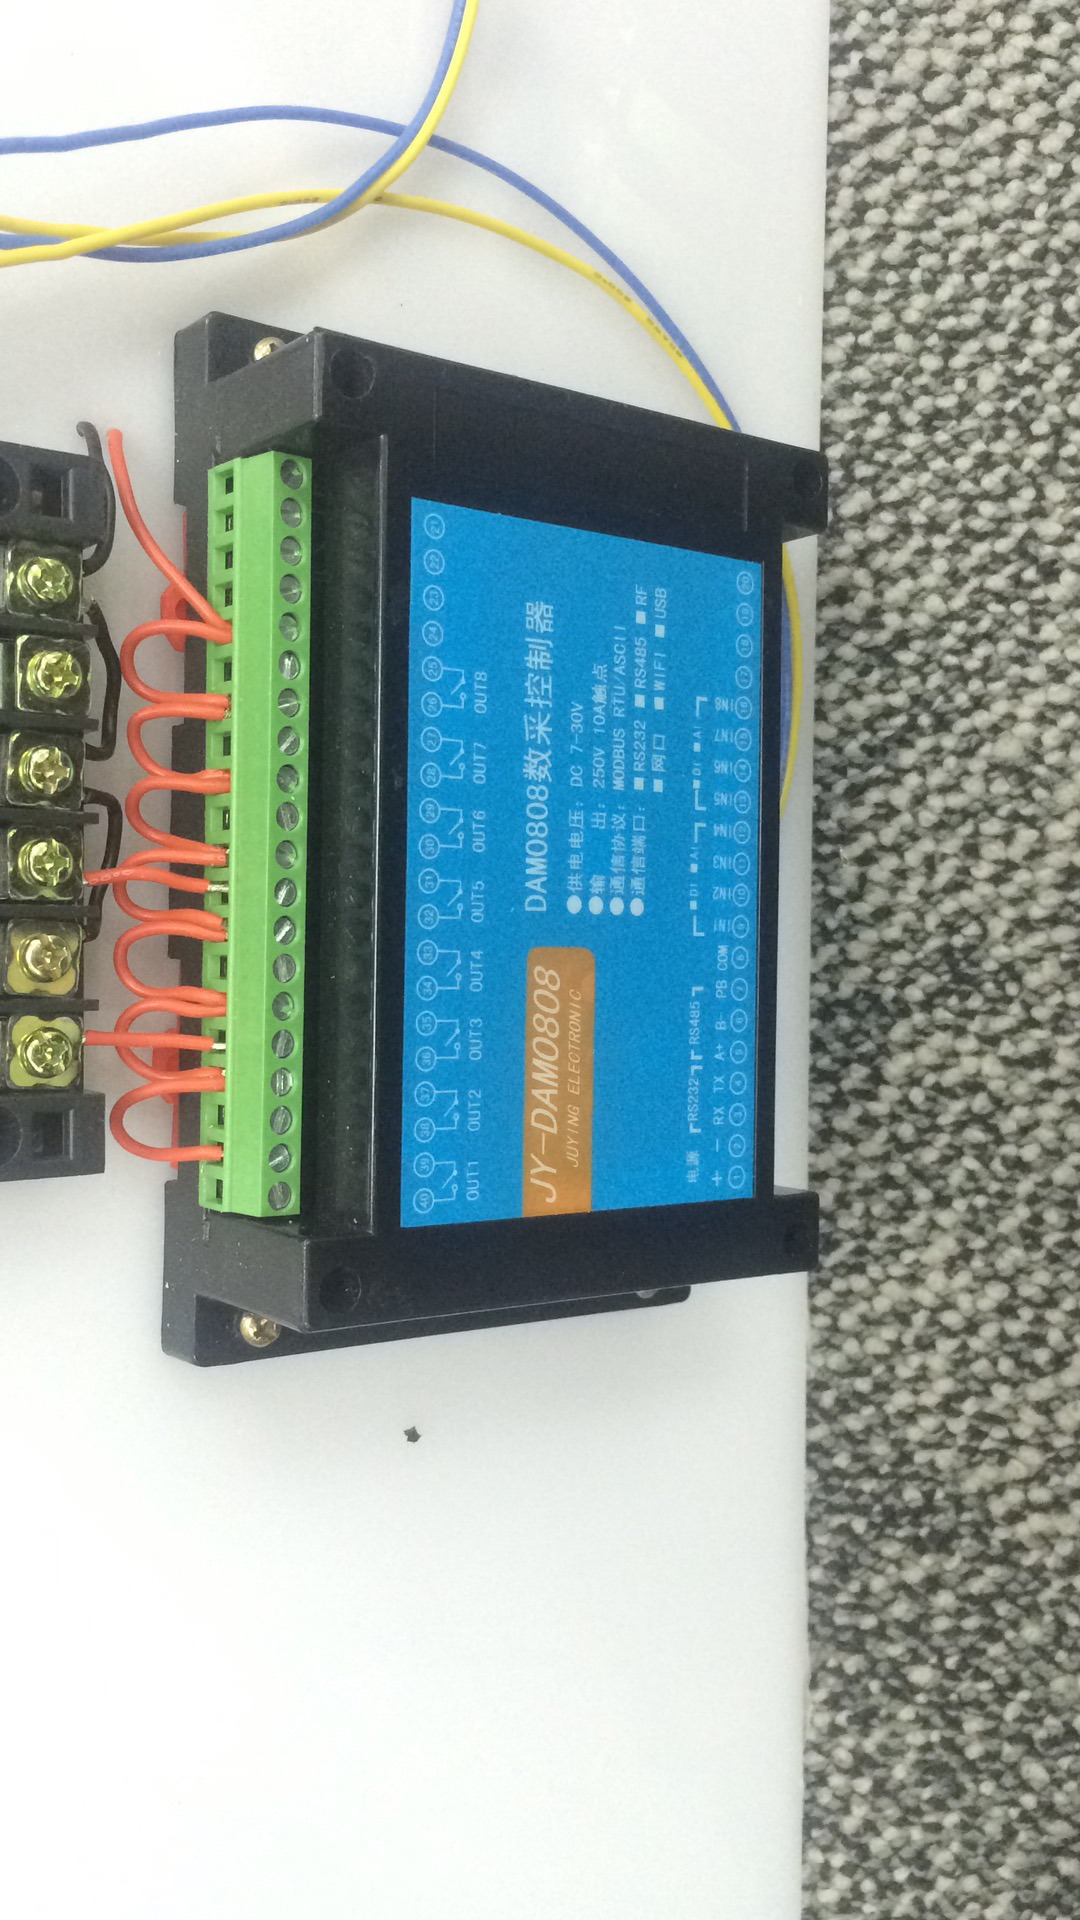relay: (149, 294, 799, 1379)
